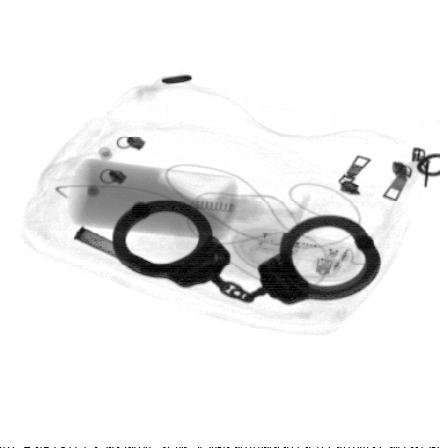Bullet: (71, 222, 155, 270)
HandCuffs: (110, 197, 383, 306)
